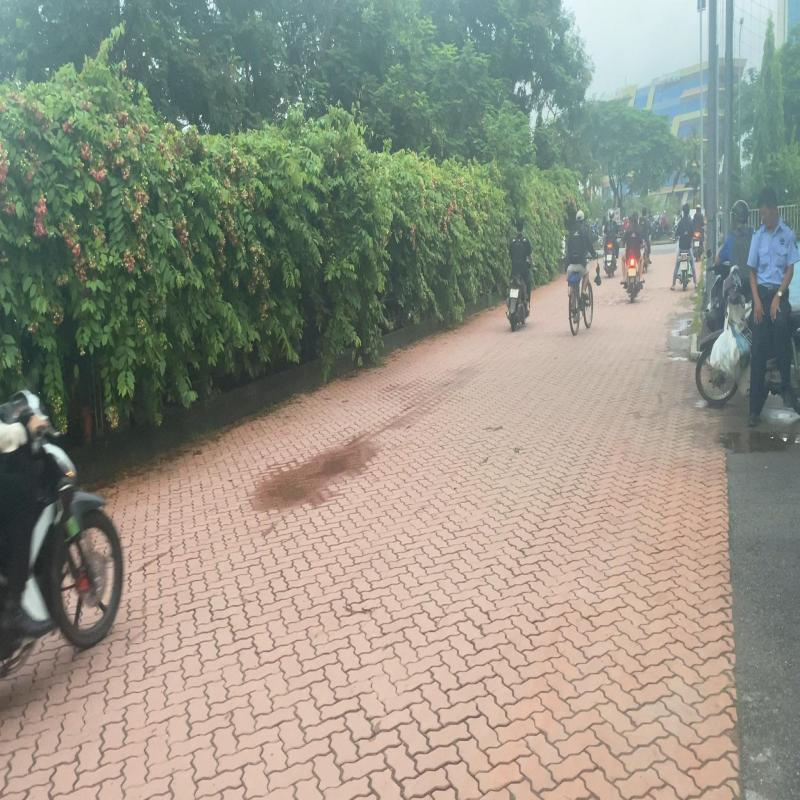licenseplate: (510, 288, 518, 298)
motorcyclist: (505, 215, 538, 332)
nohelmet: (516, 217, 524, 233)
